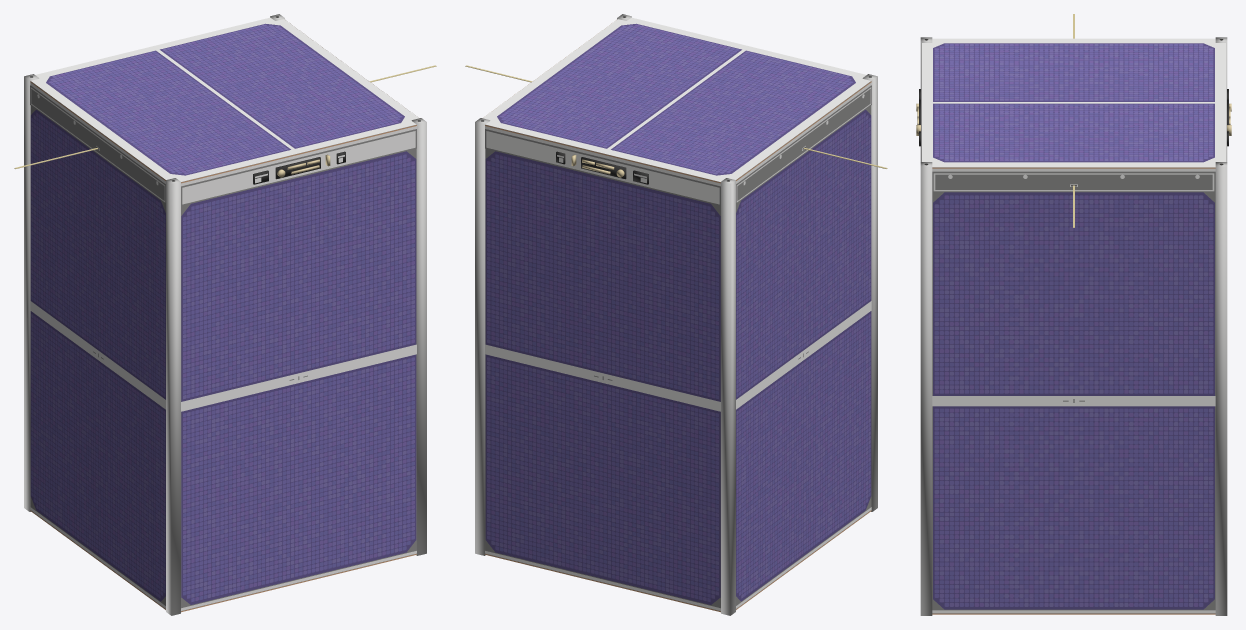
Rendered from 12U_CubeSat.glb.
The picture shows the model from 3 angles, left to right: view 1: azimuth 30°, elevation 25°; view 2: azimuth 150°, elevation 25°; view 3: azimuth 270°, elevation 25°; orthographic projection. The views are drawn at different scales.
Visible parts, largest first — view 1: Face -Y, Face -X, Top end, Corner rail, Corner rail.002, Corner rail.001; view 2: Face +Y, Face -X, Top end, Corner rail.001, Corner rail.003, Corner rail; view 3: Face +X, Top end, Corner rail.002, Corner rail.003.
Part boxes in pixels (box(x1,y1,x2,y2)): Face -Y: box(181, 125, 416, 612); Face -X: box(30, 81, 165, 609); Top end: box(31, 17, 418, 181); Corner rail: box(166, 178, 180, 615); Corner rail.002: box(411, 118, 426, 555); Corner rail.001: box(24, 74, 39, 511); Face +Y: box(485, 125, 720, 612); Face -X: box(736, 81, 871, 609); Top end: box(483, 17, 870, 181); Corner rail.001: box(721, 178, 735, 615); Corner rail.003: box(475, 118, 490, 555); Corner rail: box(862, 74, 877, 511); Face +X: box(932, 167, 1215, 614); Top end: box(922, 38, 1225, 167); Corner rail.002: box(920, 162, 932, 615); Corner rail.003: box(1215, 162, 1227, 615).
Size of the model in its own units: 0.3731 by 0.3658 by 0.2329.
